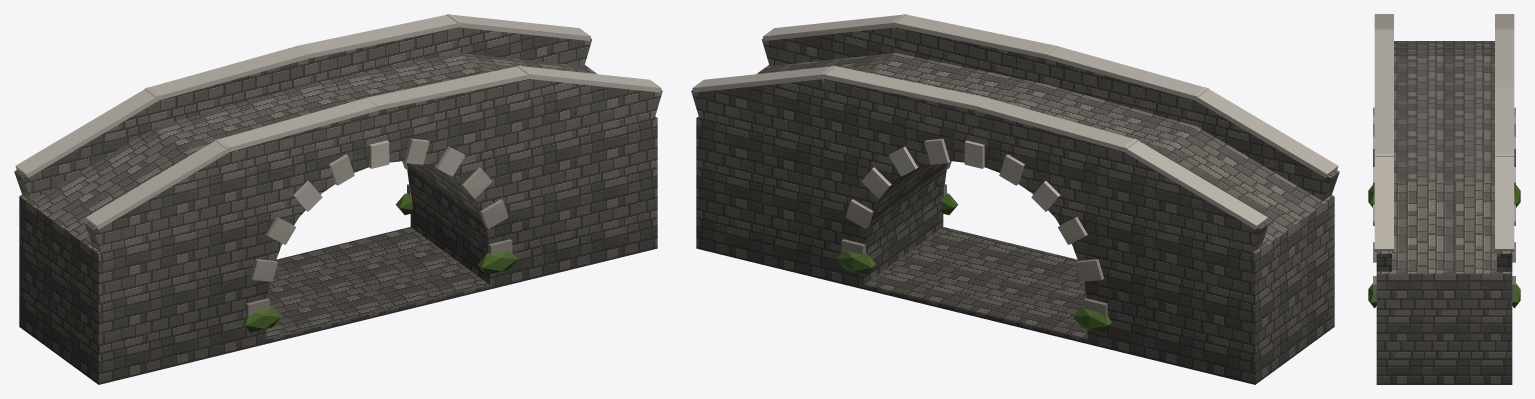
Rendered from ponte_de_pedra.glb.
3 renders of one model, left to right at view 1: azimuth 30°, elevation 25°; view 2: azimuth 150°, elevation 25°; view 3: azimuth 270°, elevation 25°, orthographic. The views are drawn at different scales.
Visible parts, largest first — view 1: ponte_de_pedra, ponte_de_pedra_liso; view 2: ponte_de_pedra, ponte_de_pedra_liso; view 3: ponte_de_pedra, ponte_de_pedra_liso.
Part boxes in pixels (x1,y1,x2,y2): ponte_de_pedra: (14, 27, 662, 384); ponte_de_pedra_liso: (15, 14, 661, 332); ponte_de_pedra: (691, 27, 1339, 384); ponte_de_pedra_liso: (692, 14, 1338, 332); ponte_de_pedra: (1376, 41, 1512, 384); ponte_de_pedra_liso: (1368, 14, 1520, 308).
Bounding box in the file's own units: 13.24 × 4.71 × 3.6.
Materials: 2 (1 with a texture image).
